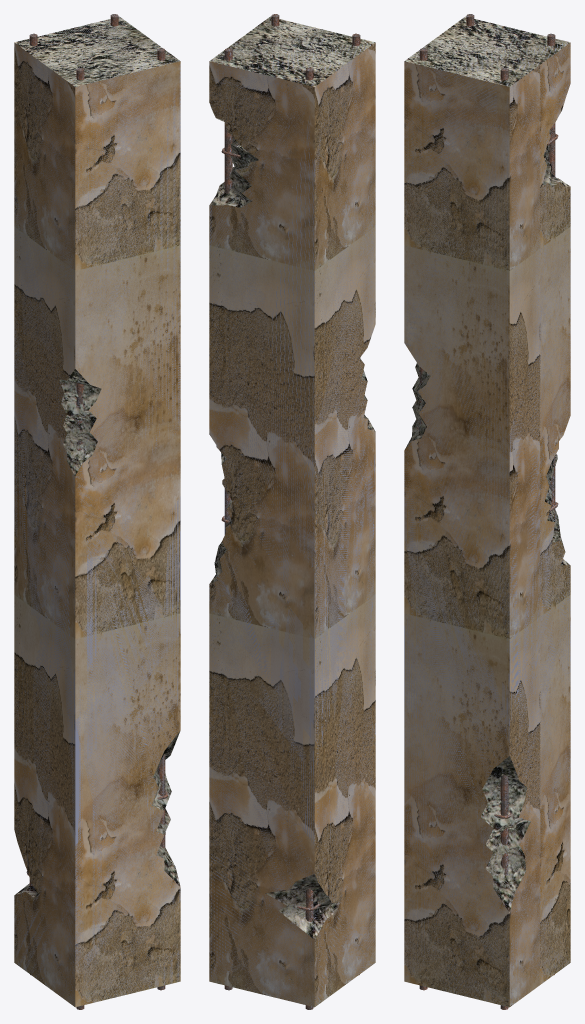
3 views of the same model, side by side, from view 1: azimuth 30°, elevation 25°; view 2: azimuth 150°, elevation 25°; view 3: azimuth 330°, elevation 25° (orthographic).
Visible parts, largest first — view 1: C-600sqr (×4), Rebar01; view 2: C-600sqr (×4), Rebar01 (×2); view 3: C-600sqr (×5), Rebar01 (×2).
Boxes of the visible parts, box(x1,y1,x2,y2) form: C-600sqr (×4): box(14, 16, 180, 1007); Rebar01: box(157, 48, 165, 990); C-600sqr (×4): box(209, 16, 375, 1007); Rebar01 (×2): box(224, 48, 313, 1009); C-600sqr (×5): box(404, 16, 570, 1007); Rebar01 (×2): box(500, 33, 555, 1009).
Bounding box in the file's own units: 23.62 × 23.62 × 201.
Materials: 4 (3 with a texture image).
